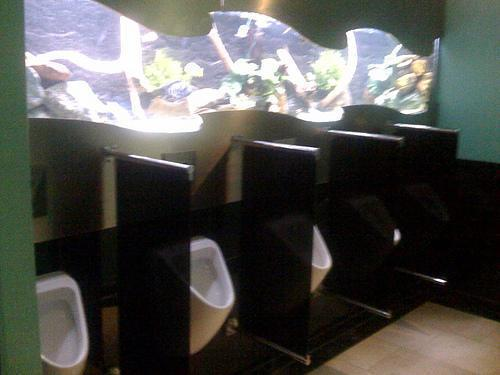Sanitario: (150, 228, 237, 358), (16, 271, 90, 374), (265, 210, 333, 297), (348, 190, 400, 267), (401, 183, 452, 250)
